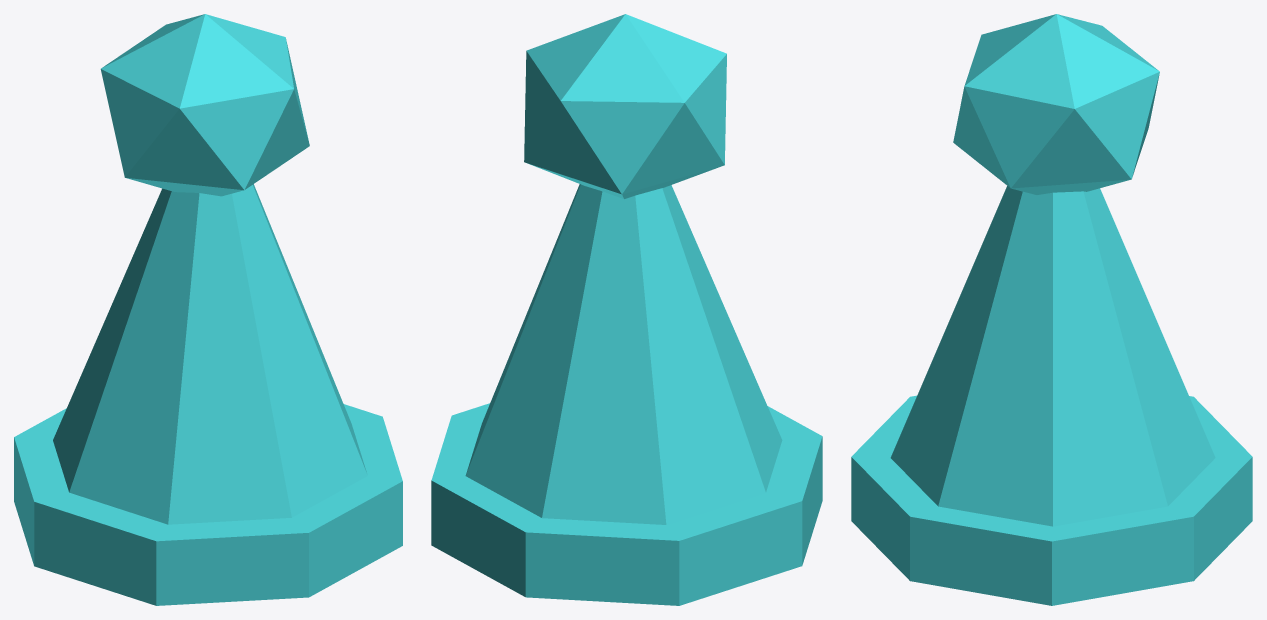
File: pawn-blue.glb
The picture shows the model from 3 angles, left to right: view 1: azimuth 30°, elevation 25°; view 2: azimuth 150°, elevation 25°; view 3: azimuth 270°, elevation 25°; orthographic projection.
Visible parts, largest first — view 1: Cylinder.002; view 2: Cylinder.002; view 3: Cylinder.002.
Part boxes in pixels (left/top/right/bottom): Cylinder.002: left=14, top=14, right=402, bottom=605; Cylinder.002: left=431, top=14, right=822, bottom=605; Cylinder.002: left=851, top=14, right=1252, bottom=605.
Bounding box in the file's own units: 10914 × 15210 × 10914.
